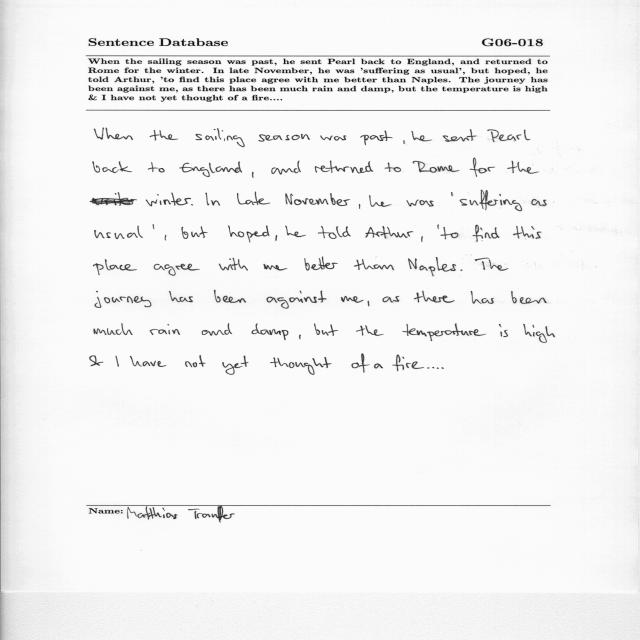word: (402, 324, 487, 341), (460, 190, 522, 211), (270, 357, 332, 375), (267, 291, 327, 309), (179, 161, 242, 177), (95, 291, 152, 308), (195, 128, 245, 147), (408, 257, 456, 276), (285, 193, 350, 206), (315, 161, 374, 174), (228, 226, 269, 243), (94, 259, 137, 275), (90, 192, 137, 206), (146, 193, 193, 207), (365, 226, 414, 239), (252, 324, 289, 341), (95, 226, 143, 239), (523, 324, 555, 343), (413, 161, 460, 173), (488, 129, 531, 142), (154, 264, 200, 276), (414, 290, 455, 303), (222, 356, 249, 375), (392, 355, 424, 371), (360, 131, 393, 146), (304, 257, 338, 271), (470, 158, 495, 177), (94, 128, 133, 140), (93, 161, 132, 173), (511, 291, 547, 304), (473, 225, 500, 242), (271, 160, 301, 175), (443, 129, 477, 142), (475, 258, 509, 271), (354, 259, 394, 270), (237, 192, 270, 205), (318, 226, 351, 239), (94, 324, 133, 335), (258, 134, 310, 142), (507, 161, 539, 174), (214, 290, 246, 303), (130, 356, 167, 367), (202, 323, 232, 336), (219, 258, 248, 271), (513, 226, 541, 239), (351, 354, 370, 373), (181, 226, 208, 239), (149, 324, 180, 335), (314, 323, 338, 336), (356, 325, 384, 336), (471, 291, 494, 304), (150, 130, 179, 140), (369, 195, 392, 207), (169, 291, 193, 302), (185, 356, 206, 368), (285, 226, 306, 237), (441, 227, 459, 239), (411, 131, 432, 141), (406, 200, 434, 207), (148, 162, 165, 173), (384, 163, 401, 173), (320, 135, 347, 141), (341, 296, 364, 303), (264, 264, 288, 270), (90, 355, 103, 366), (499, 324, 508, 337), (531, 199, 547, 206), (383, 296, 400, 302), (211, 200, 220, 206), (206, 193, 210, 206), (374, 364, 383, 369), (115, 356, 119, 367), (427, 367, 439, 369), (252, 172, 254, 178), (275, 235, 277, 241), (421, 236, 423, 242), (368, 301, 370, 307), (299, 335, 301, 340), (403, 140, 405, 144), (451, 192, 453, 196), (153, 225, 155, 229), (437, 225, 439, 229), (165, 235, 166, 241), (441, 367, 444, 369), (359, 204, 360, 209), (461, 269, 463, 271)
